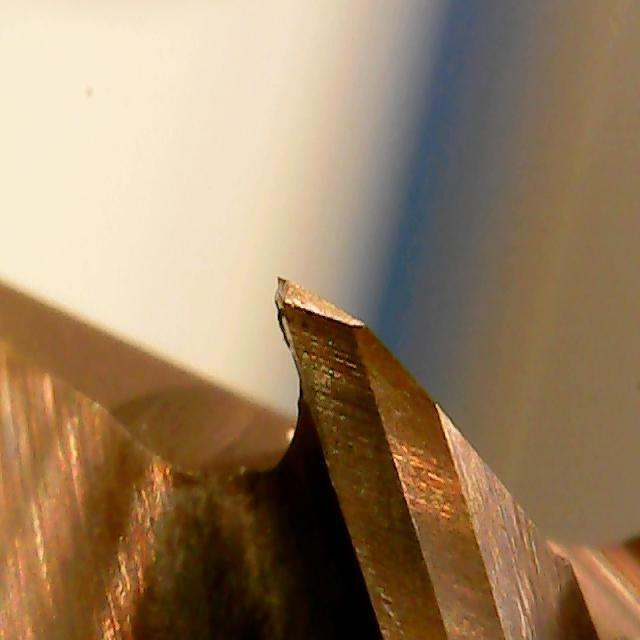Tool-wear-class-1: (260, 255, 426, 547)
